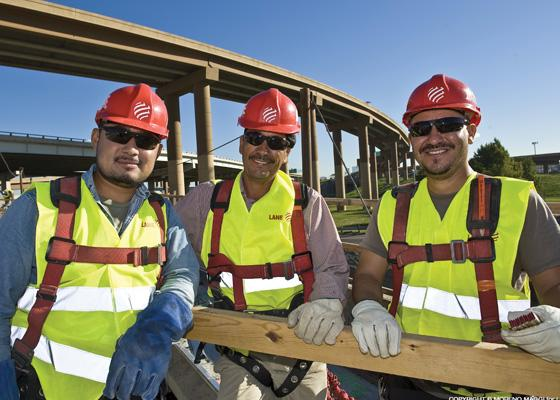helmet: (404, 73, 484, 129), (94, 85, 170, 140), (239, 90, 301, 135)
